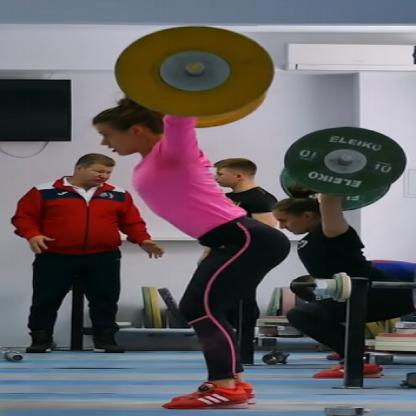barbell: (114, 23, 275, 129), (282, 124, 406, 210)
